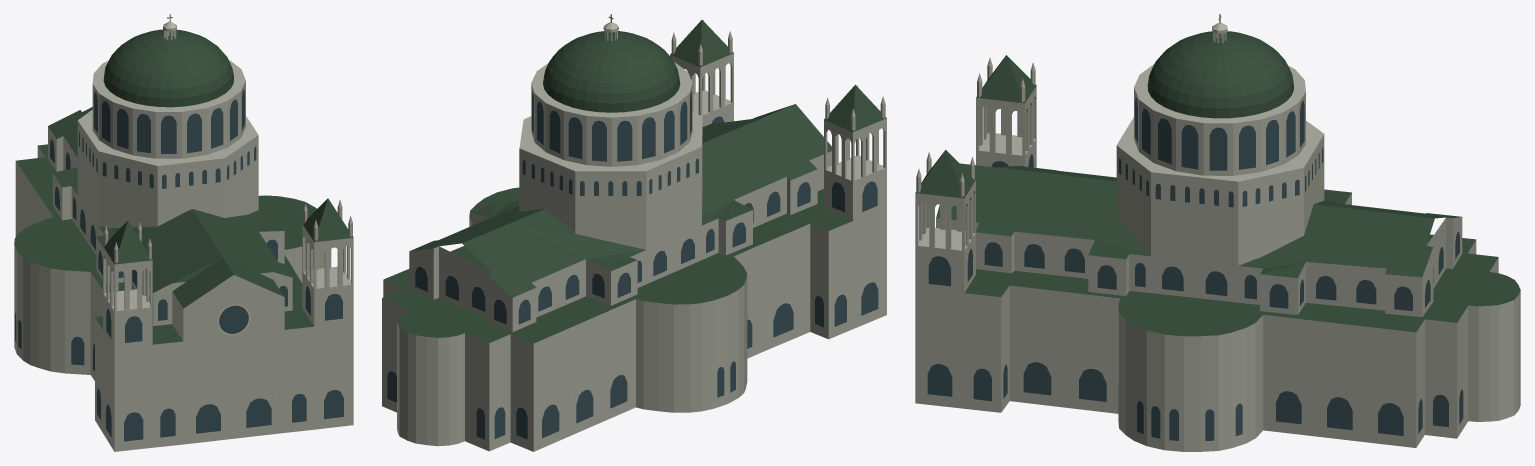
File: cathedral-basilica-st-louis-far.glb
3 renders of one model, left to right at view 1: azimuth 30°, elevation 25°; view 2: azimuth 150°, elevation 25°; view 3: azimuth 270°, elevation 25°, orthographic. The views are drawn at different scales.
Parts seen in each view (by area): view 1: cathedral-basilica-st-louis-0-stone, cathedral-basilica-st-louis-0-green, cathedral-basilica-st-louis-0-glass; view 2: cathedral-basilica-st-louis-0-stone, cathedral-basilica-st-louis-0-green, cathedral-basilica-st-louis-0-glass; view 3: cathedral-basilica-st-louis-0-stone, cathedral-basilica-st-louis-0-green, cathedral-basilica-st-louis-0-glass.
Part boxes in pixels (bbox=[...]): cathedral-basilica-st-louis-0-stone: bbox=[14, 21, 353, 451]; cathedral-basilica-st-louis-0-green: bbox=[14, 29, 353, 344]; cathedral-basilica-st-louis-0-glass: bbox=[15, 89, 343, 441]; cathedral-basilica-st-louis-0-stone: bbox=[382, 20, 886, 451]; cathedral-basilica-st-louis-0-green: bbox=[382, 20, 886, 343]; cathedral-basilica-st-louis-0-glass: bbox=[387, 91, 878, 439]; cathedral-basilica-st-louis-0-stone: bbox=[915, 23, 1520, 451]; cathedral-basilica-st-louis-0-green: bbox=[915, 31, 1520, 336]; cathedral-basilica-st-louis-0-glass: bbox=[927, 97, 1463, 440].
Bounding box in the file's own units: 66.04 × 69 × 104.
